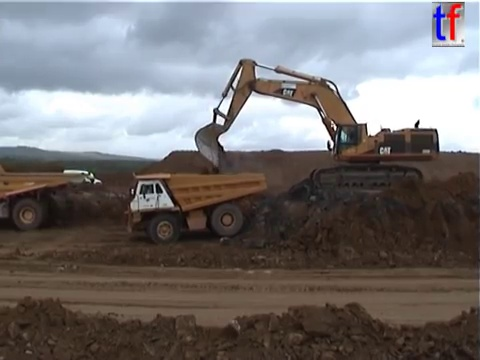excavator: (192, 56, 443, 197)
truck: (123, 170, 268, 245), (1, 167, 85, 232)
worker: (86, 169, 96, 189), (79, 169, 88, 190)
